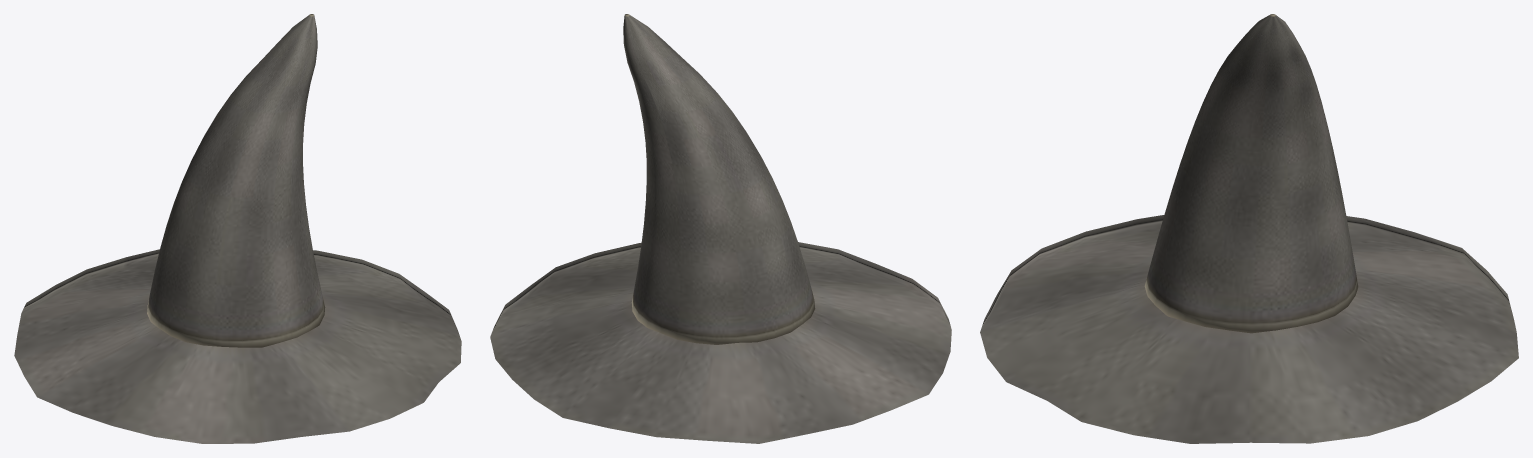
The model's file is ash_pointed_head.glb.
3 views of the same model, side by side, from view 1: azimuth 30°, elevation 25°; view 2: azimuth 150°, elevation 25°; view 3: azimuth 270°, elevation 25° (orthographic). The views are drawn at different scales.
Parts seen in each view (by area): view 1: ash_pointed_head; view 2: ash_pointed_head; view 3: ash_pointed_head.
Boxes of the visible parts, x1,y1,x2,y2 form: ash_pointed_head: (14, 14, 461, 443); ash_pointed_head: (490, 14, 951, 443); ash_pointed_head: (980, 14, 1518, 443).
Bounding box in the file's own units: 0.55 × 0.4122 × 0.5494.
1 material, 1 textured.
